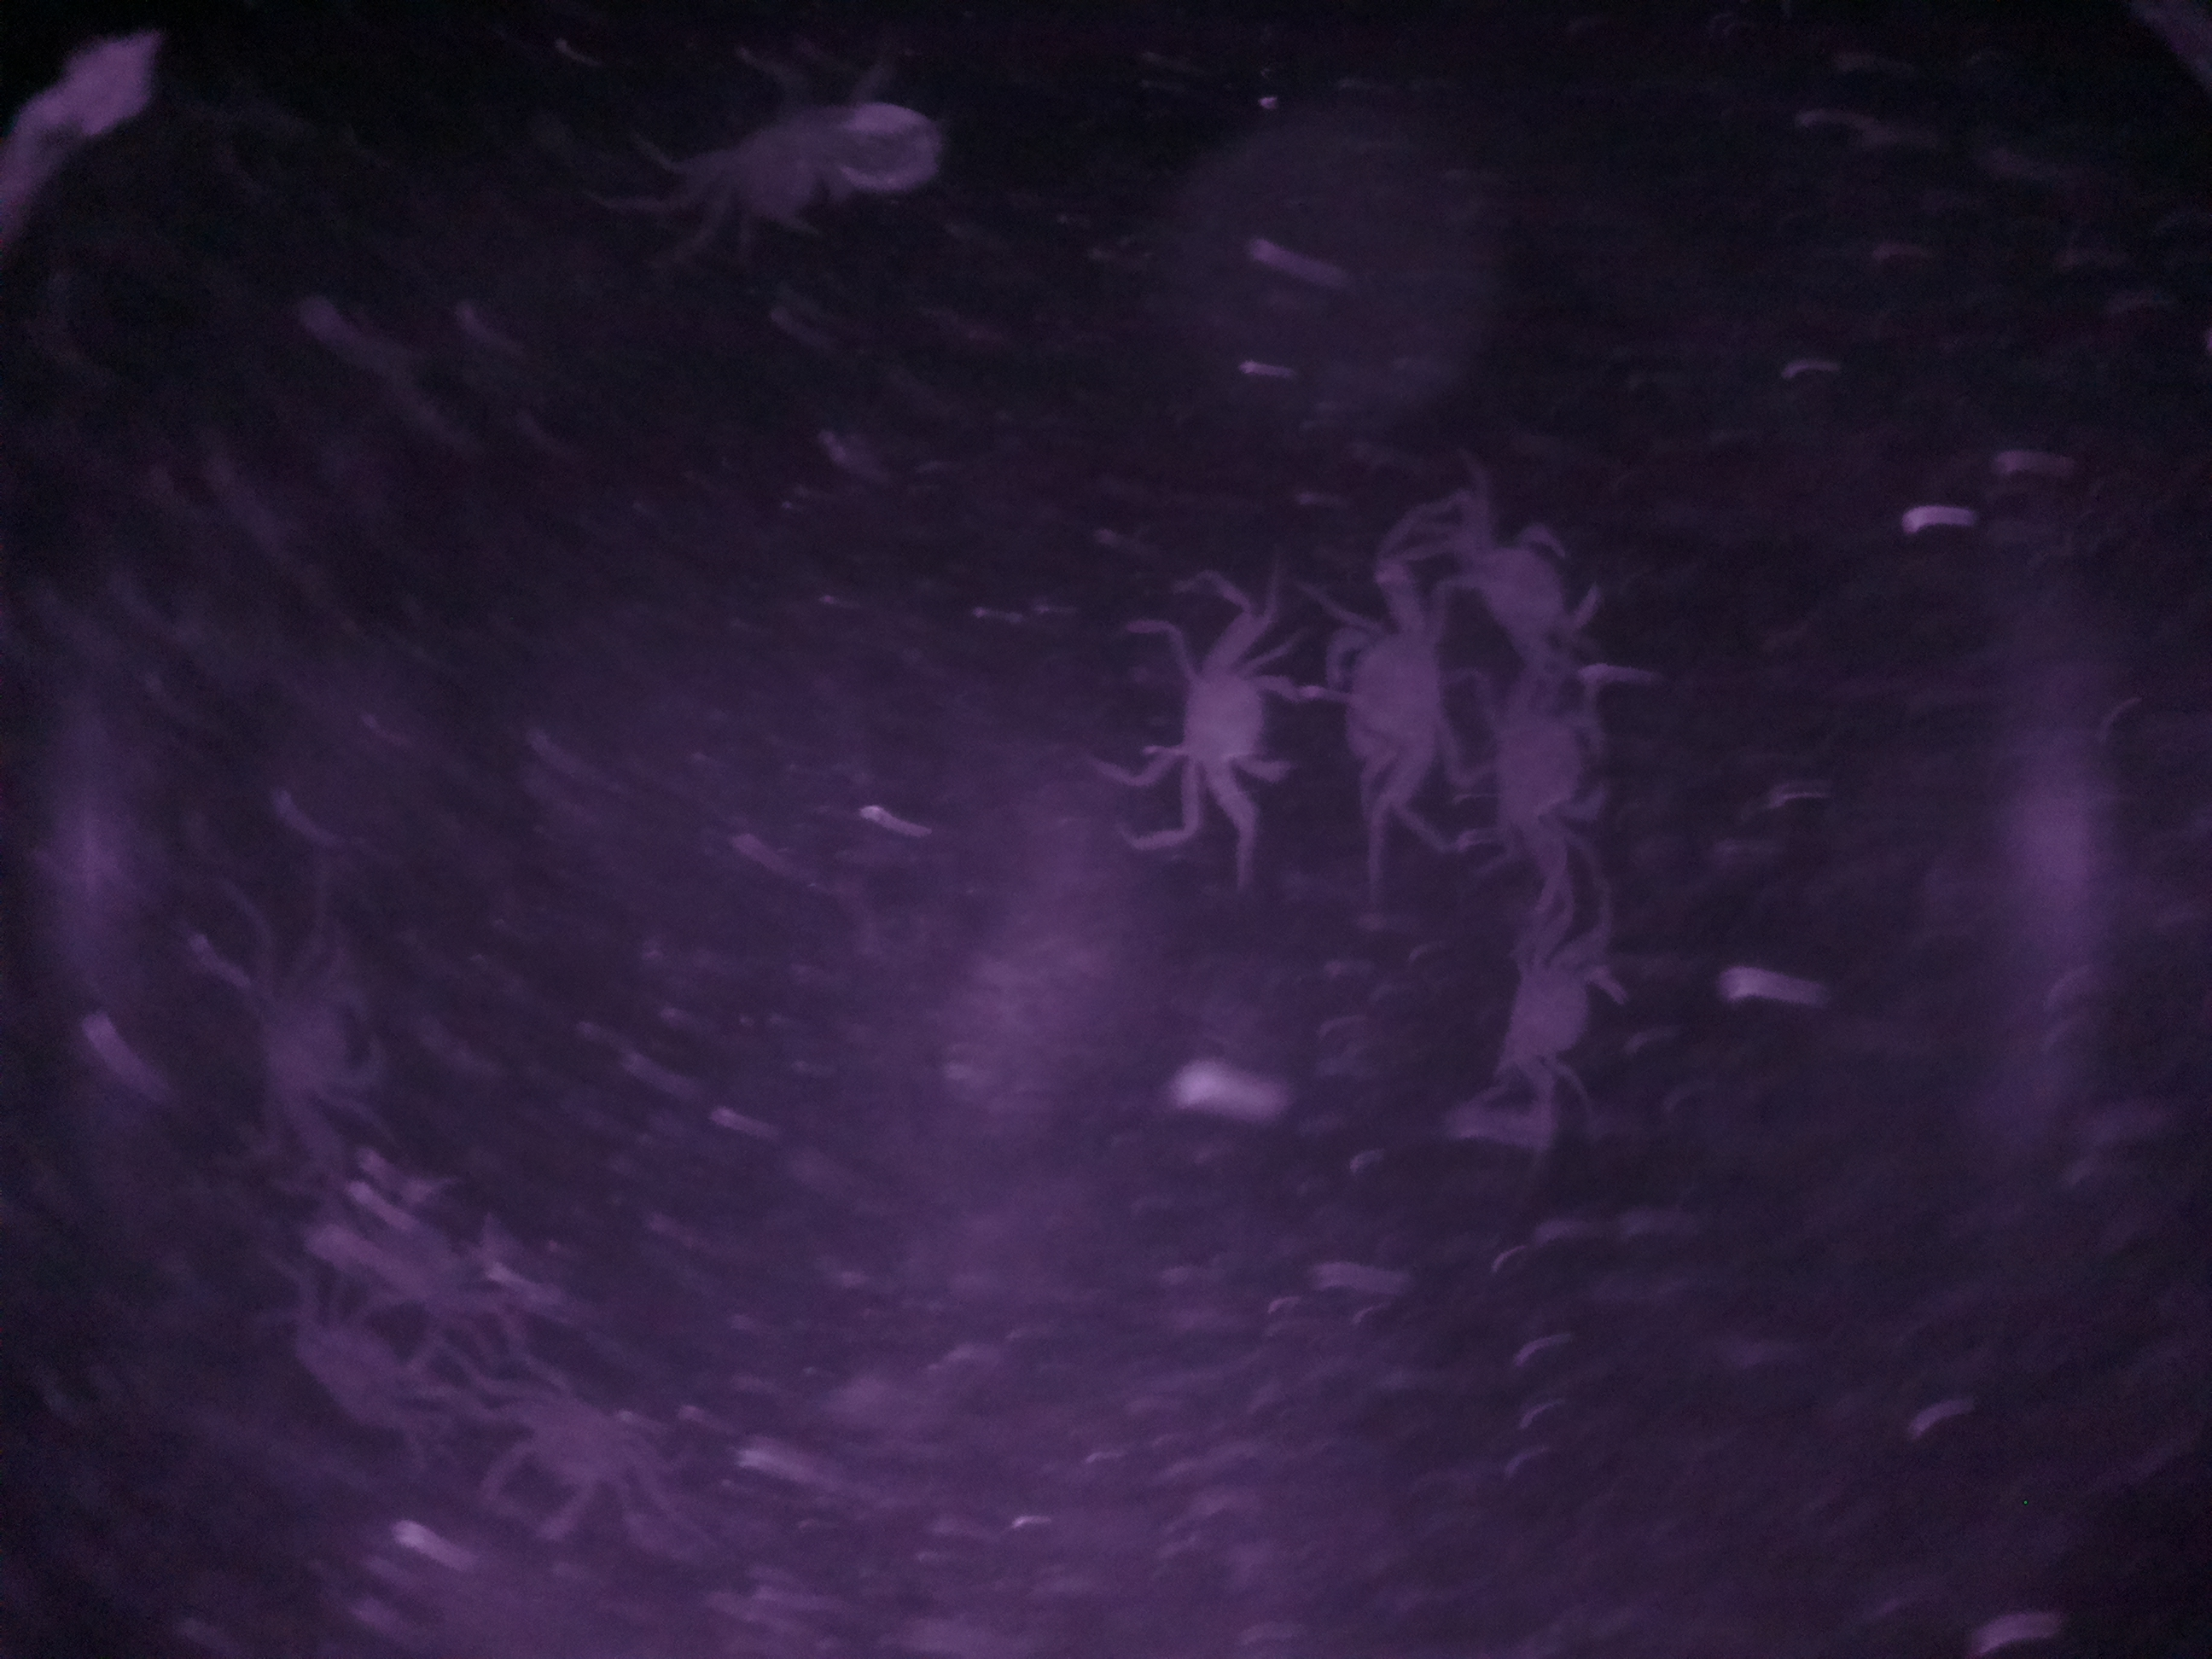Crab: (1146, 598, 1313, 831), (1312, 582, 1463, 816), (1489, 666, 1623, 854)
